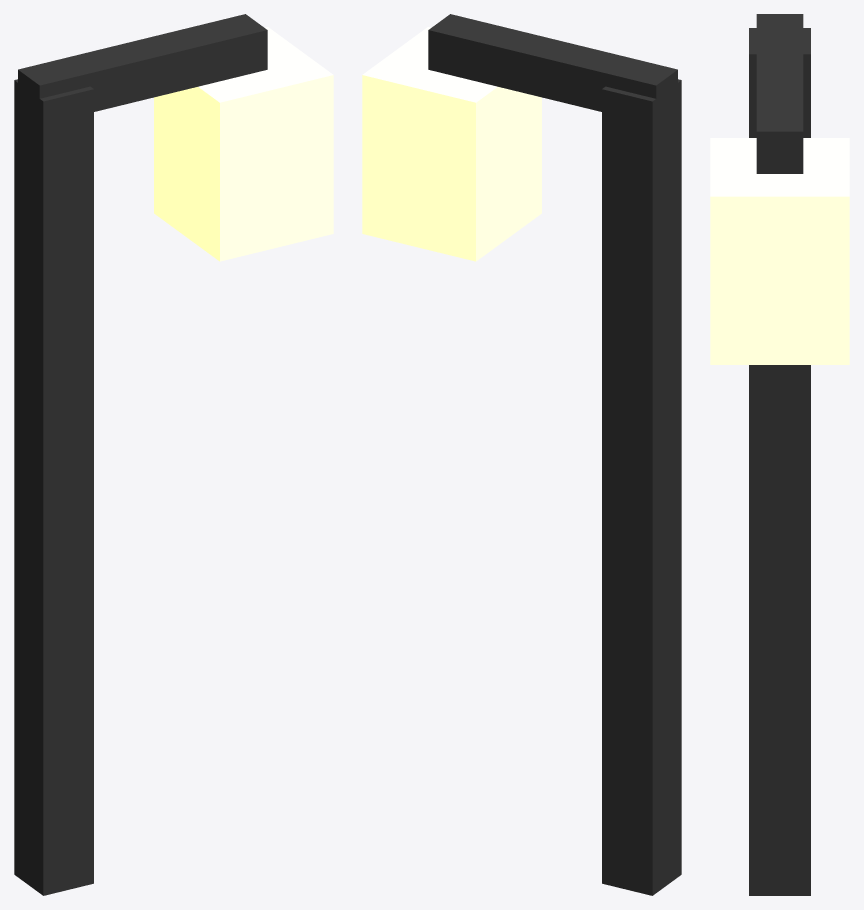
The model's file is lamp_post.glb.
3 views of the same model, side by side, from view 1: azimuth 30°, elevation 25°; view 2: azimuth 150°, elevation 25°; view 3: azimuth 270°, elevation 25° (orthographic). The views are drawn at different scales.
Parts seen in each view (by area): view 1: lamp_post; view 2: lamp_post; view 3: lamp_post.
Boxes of the visible parts, box(x1,y1,x2,y2) form: lamp_post: box(14, 14, 333, 895); lamp_post: box(362, 14, 681, 895); lamp_post: box(710, 14, 849, 895).
Size of the model in its own units: 1.08 by 3.05 by 0.45.
